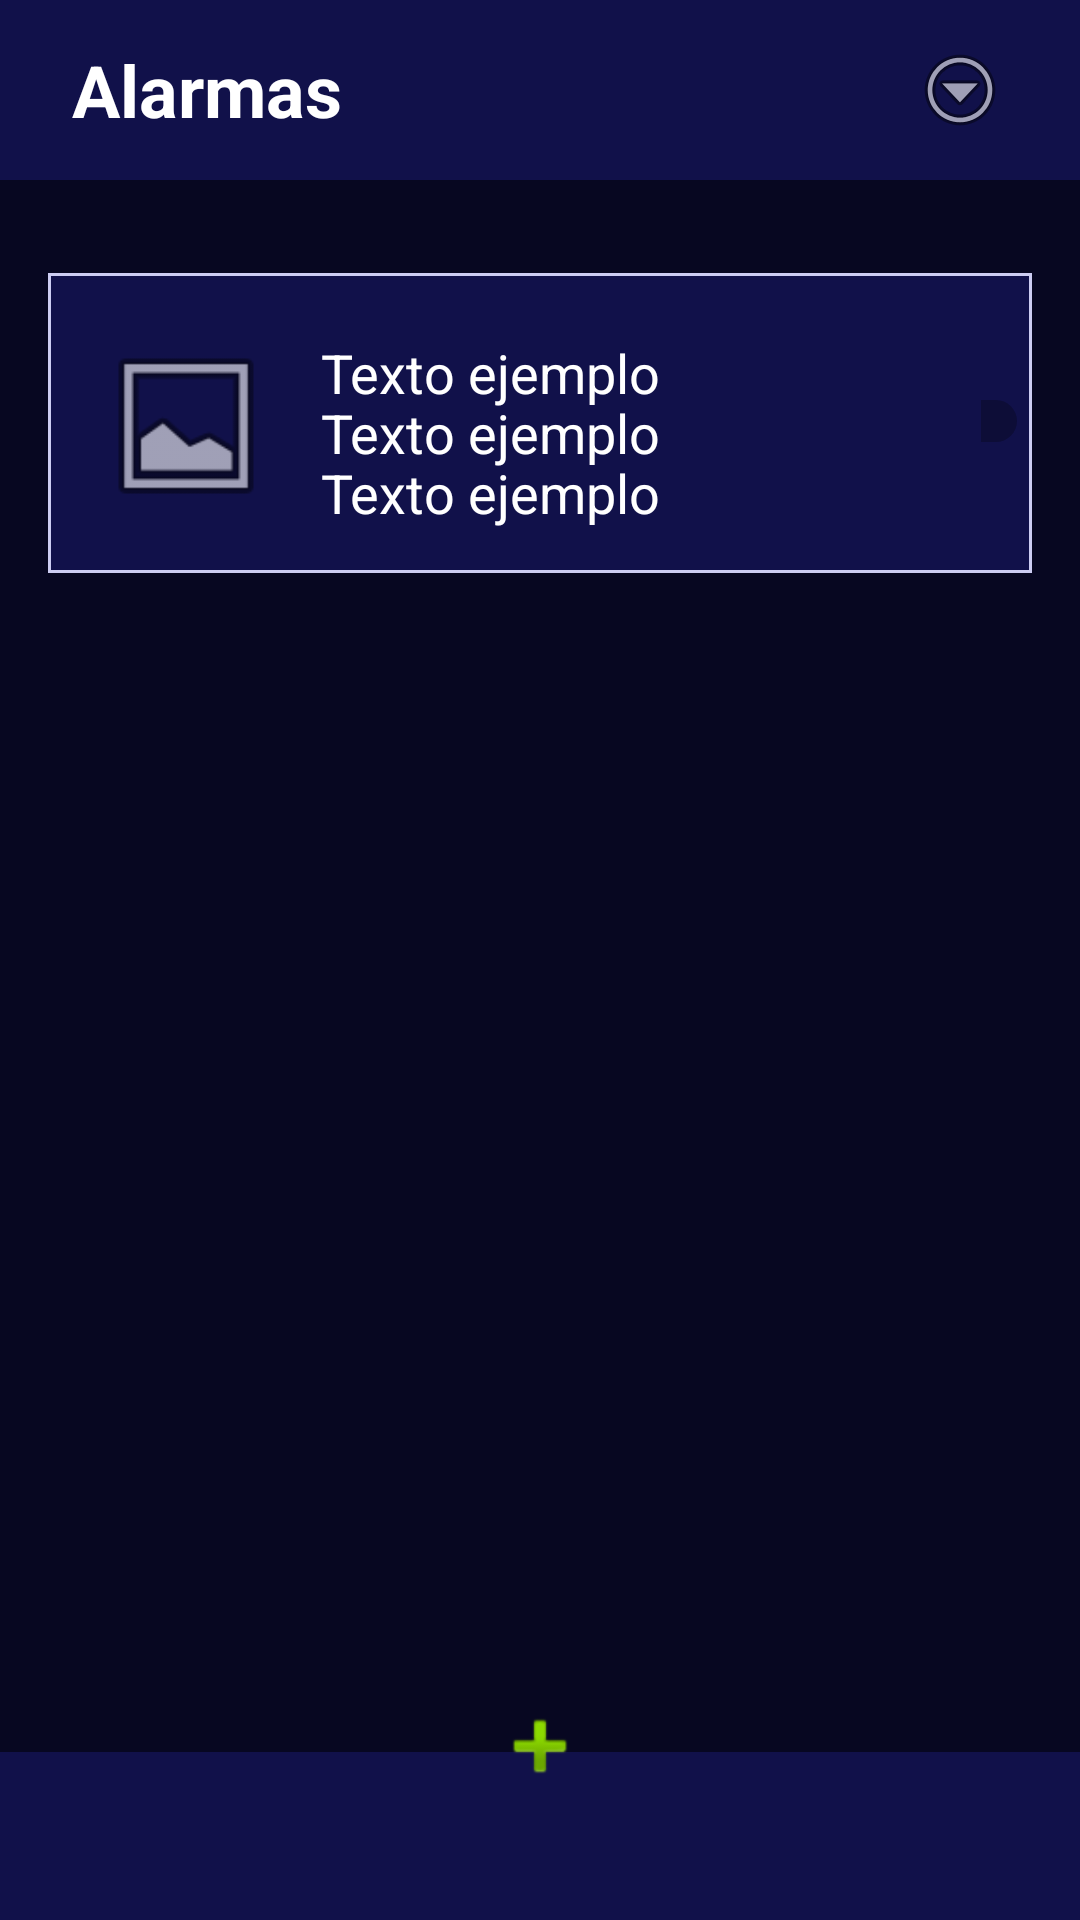

Screen size 1080x1920. Icon name, then its center in pixels as [x,y]:
gallery: [186,426]
more: [960,90]
